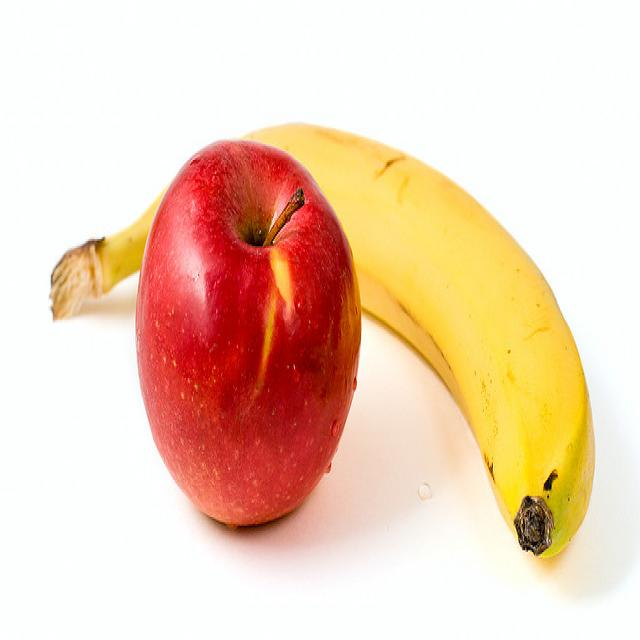Apple: (141, 141, 359, 526)
Banana: (213, 120, 593, 556)
